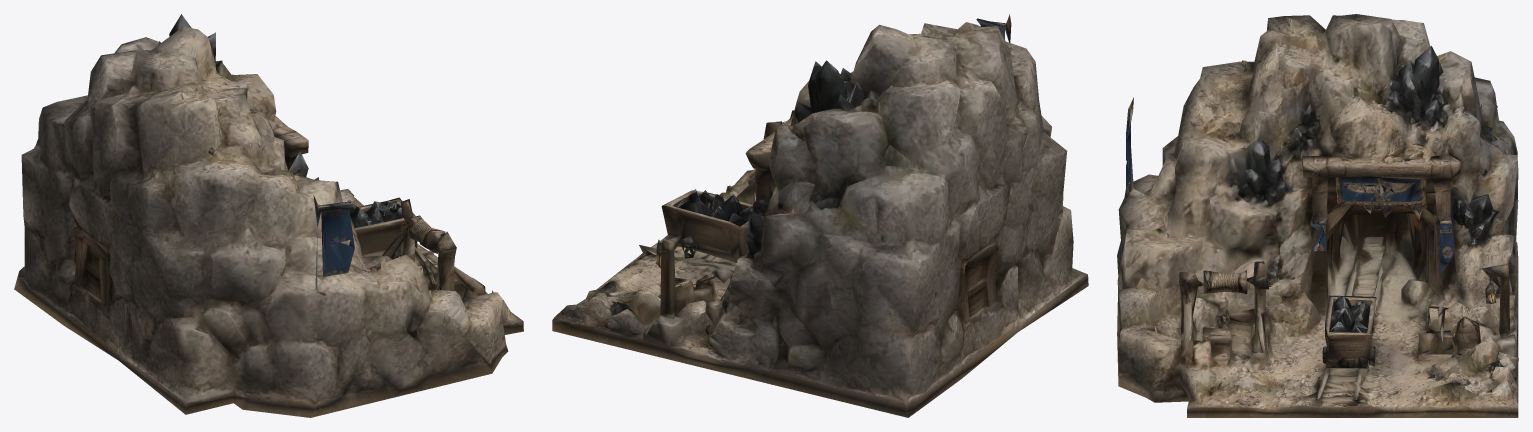
The model's file is dia_mine_black.glb.
3 views of the same model, side by side, from view 1: azimuth 30°, elevation 25°; view 2: azimuth 150°, elevation 25°; view 3: azimuth 270°, elevation 25° (orthographic). The views are drawn at different scales.
Visible parts, largest first — view 1: tripo_node_8976c688-3af8-48f7-8a49-6f2a17a50a54; view 2: tripo_node_8976c688-3af8-48f7-8a49-6f2a17a50a54; view 3: tripo_node_8976c688-3af8-48f7-8a49-6f2a17a50a54.
Part boxes in pixels (x1,y1,x2,y2): tripo_node_8976c688-3af8-48f7-8a49-6f2a17a50a54: (14, 14, 523, 417); tripo_node_8976c688-3af8-48f7-8a49-6f2a17a50a54: (552, 14, 1088, 417); tripo_node_8976c688-3af8-48f7-8a49-6f2a17a50a54: (1117, 14, 1518, 417).
Bounding box in the file's own units: 0.9363 × 0.757 × 0.9758.
Materials: 1 (1 with a texture image).
